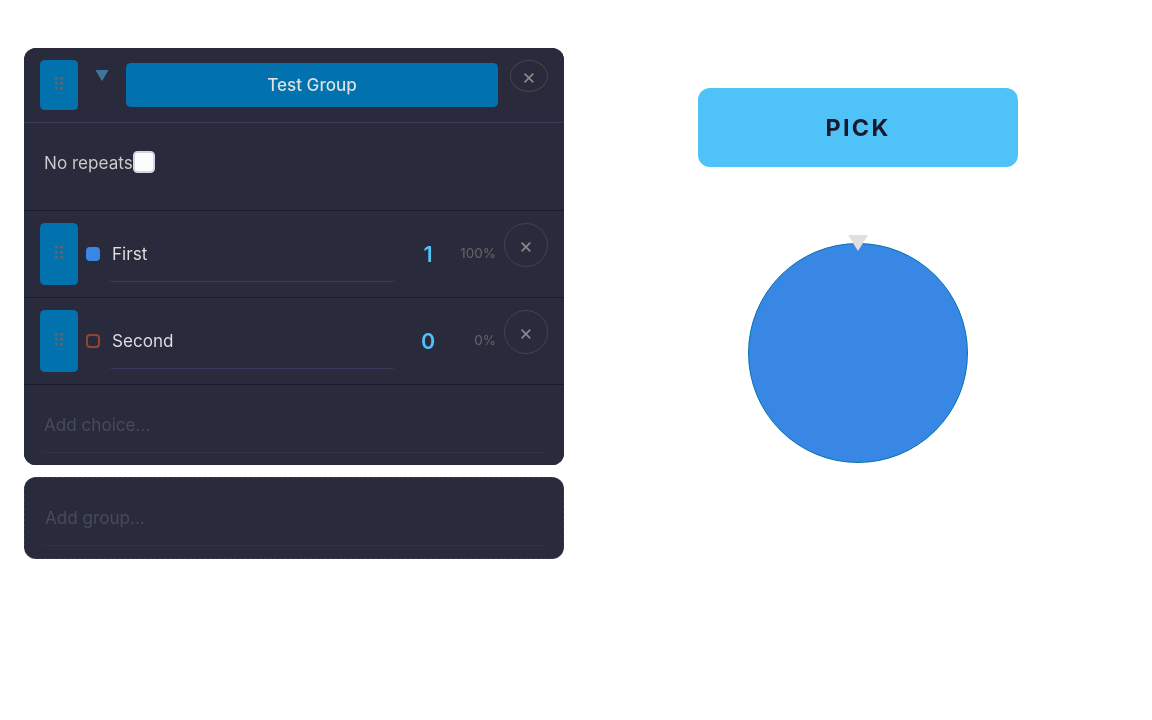
Test: WeightedChoices grouped structure › No-replacement mode › disables PICK once only a zero-weight choice remains in the pool
The width and height of the screenshot is (1152, 720).
Click the checkbox labelled "No repeats".
click(144, 162)  # box [133, 151, 155, 173]
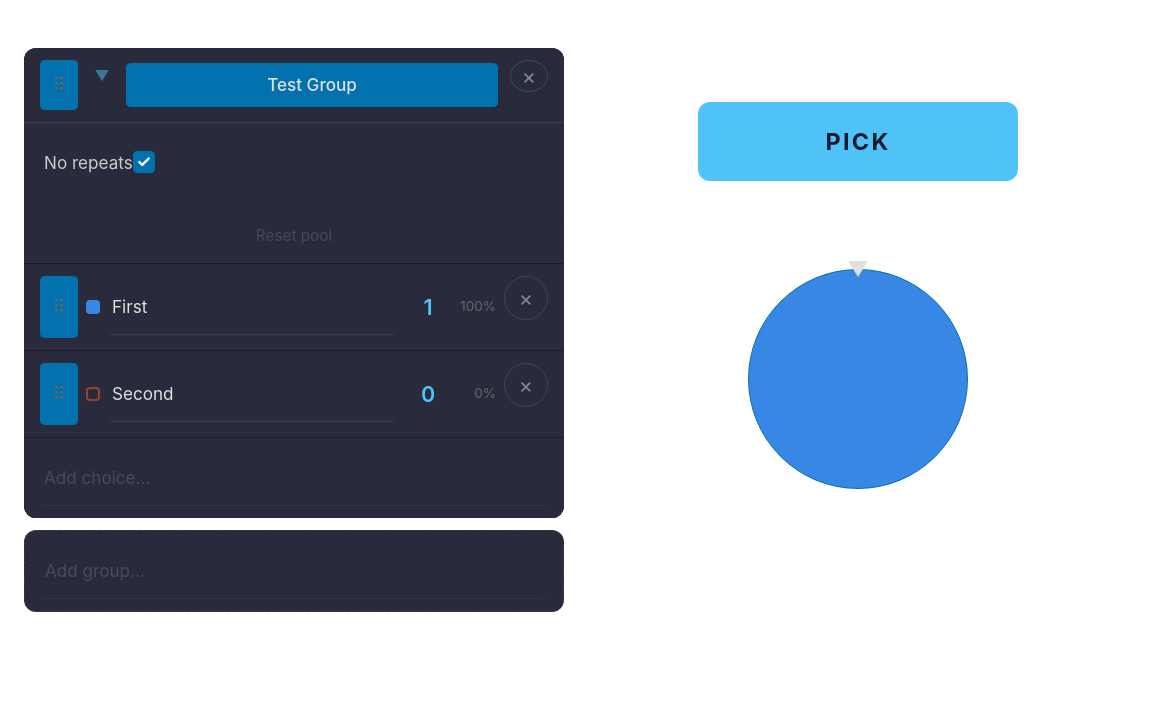
Click the button "PICK".
click(858, 141)  # box [698, 102, 1018, 181]
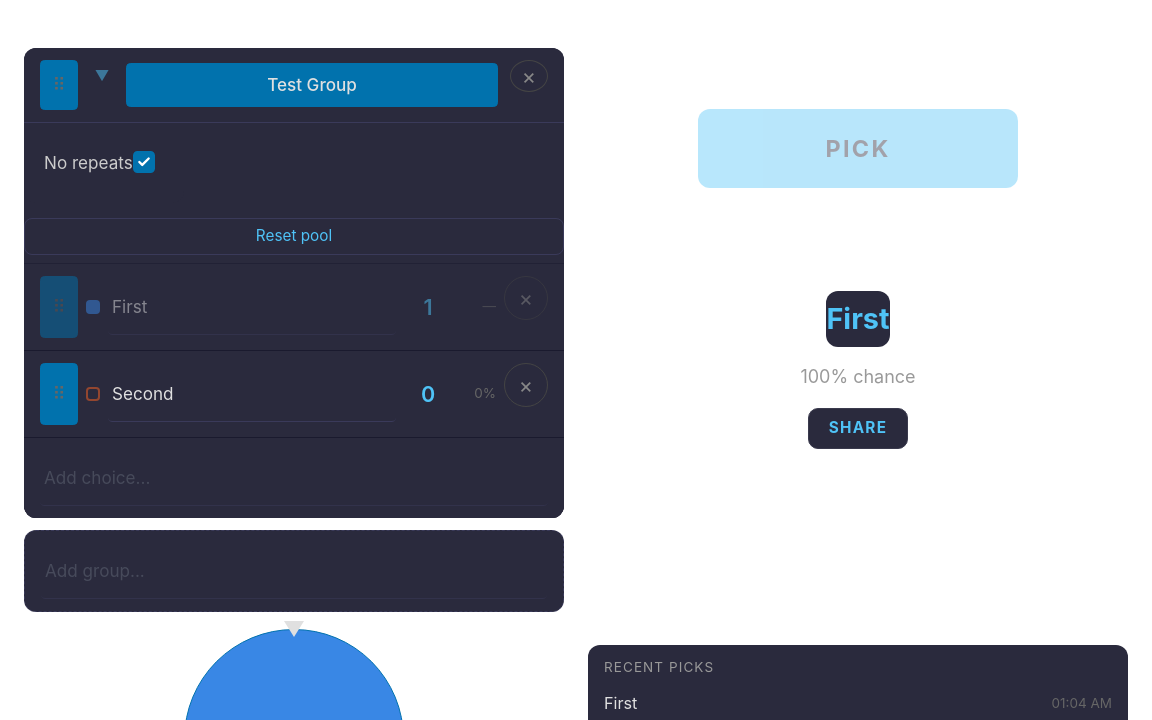
Now the 1st text "First" is shown, box [826, 291, 890, 347]
Now the button "PICK" is disabled, box [698, 109, 1018, 188]
